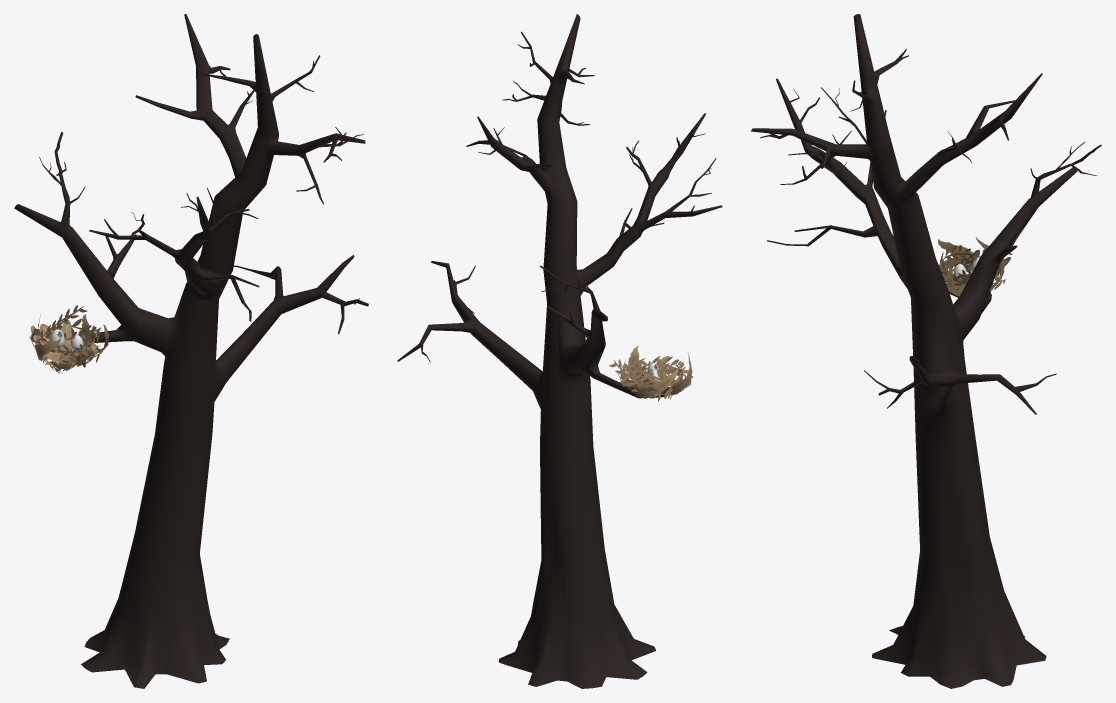
Rendered from TreeWithNest.FBX.
The picture shows the model from 3 angles, left to right: view 1: azimuth 30°, elevation 25°; view 2: azimuth 150°, elevation 25°; view 3: azimuth 270°, elevation 25°; orthographic projection. The views are drawn at different scales.
Visible parts, largest first — view 1: Tree, ShortCornFern002, Corn Leaf006; view 2: Tree, ShortCornFern002, Corn Leaf006; view 3: Tree, Corn Leaf006, ShortCornFern002.
Boxes of the visible parts, x1,y1,x2,y2 form: Tree: (14, 14, 368, 688); ShortCornFern002: (29, 305, 102, 373); Corn Leaf006: (30, 314, 109, 369); Tree: (397, 14, 722, 688); ShortCornFern002: (609, 355, 693, 401); Corn Leaf006: (621, 346, 692, 398); Tree: (751, 14, 1101, 688); Corn Leaf006: (938, 237, 1010, 296); ShortCornFern002: (939, 245, 1012, 294).
Bounding box in the file's own units: 33.23 × 68.37 × 32.65.
3 materials, 2 textured.
